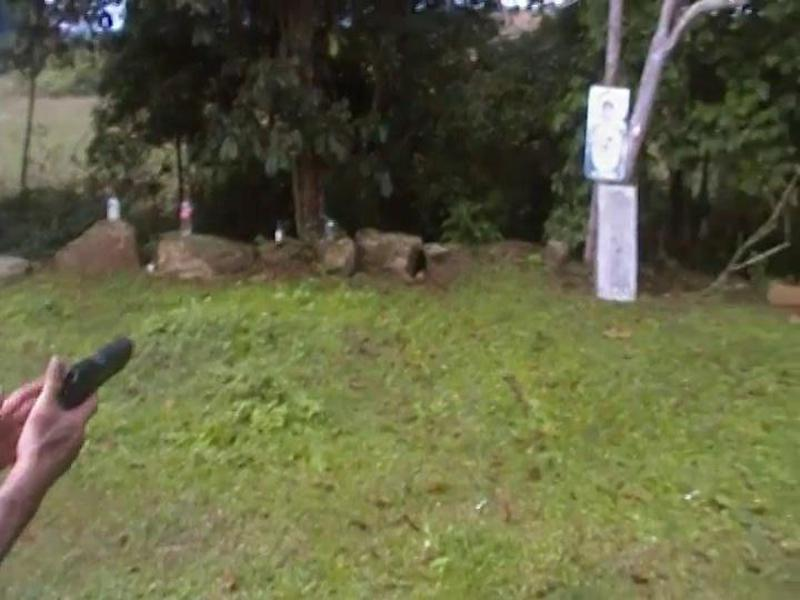Pistola: (44, 331, 153, 435)
